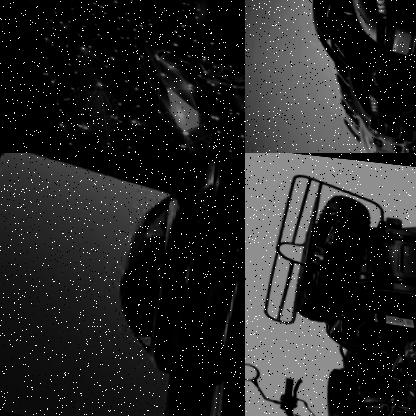bike: (245, 153, 416, 416)
car: (14, 0, 245, 153), (102, 153, 245, 398), (300, 28, 416, 145), (295, 0, 416, 65)
